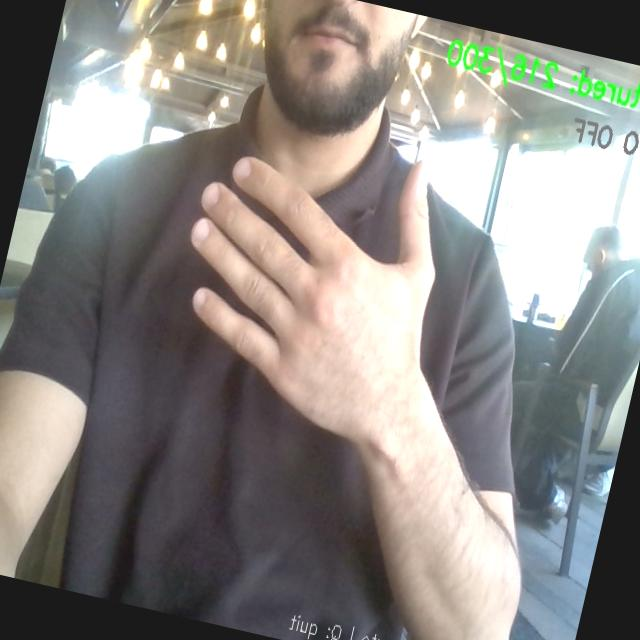Hand: (191, 158, 434, 442)
